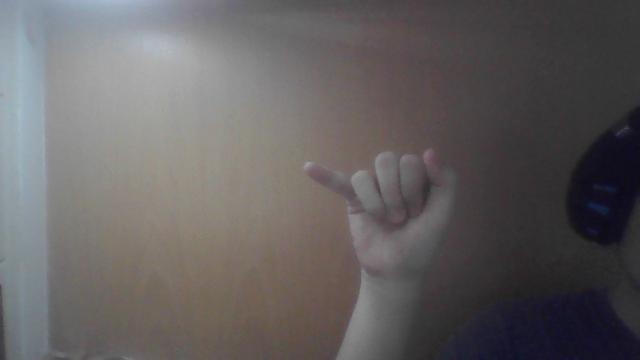Right: (300, 156, 464, 278)
